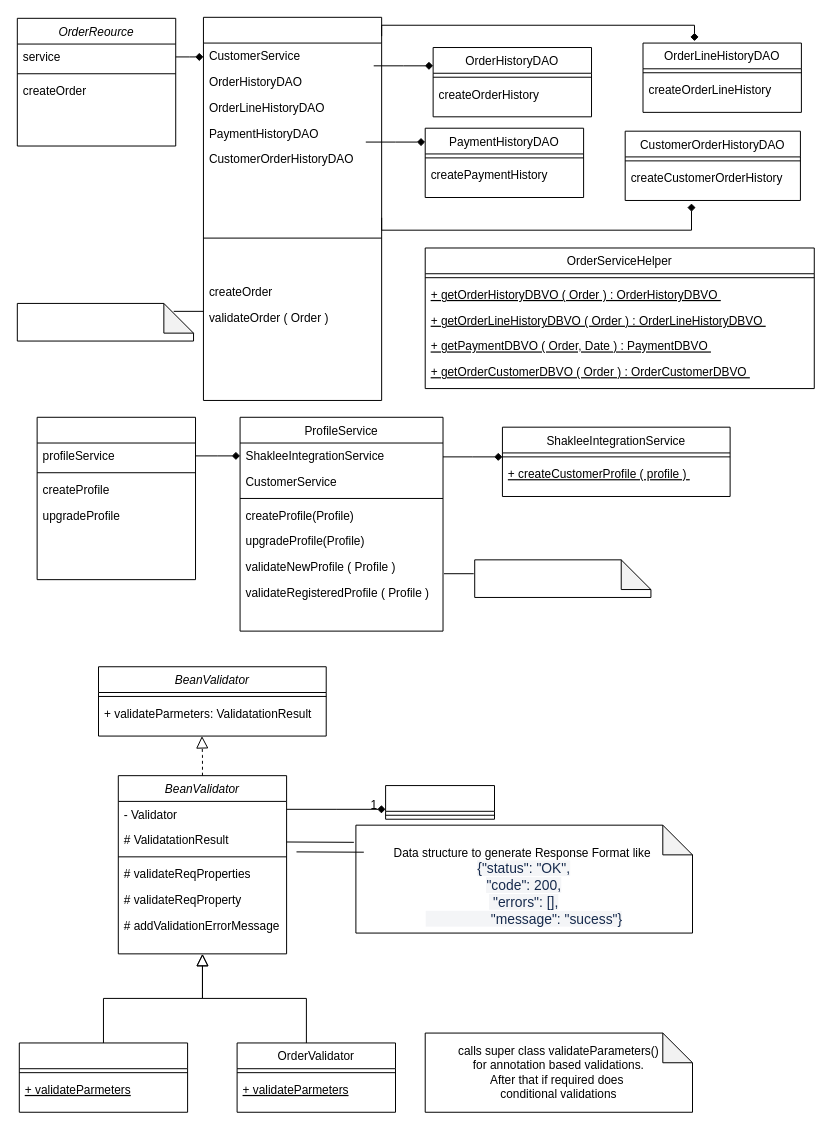
Some shapes in this 832 by 1130 pixel diagram are drawn without their labels. The box of each missing label's shape, as (x1, y1, x2, y2) in pixels:
Apache BVal: (385, 785, 495, 819)
OrderService: (202, 16, 382, 400)
ProfileReource: (36, 416, 196, 580)
ProfileValidator: (18, 1042, 188, 1112)
Uses OrderValidator: (16, 302, 194, 341)
Uses ProfileValidator: (474, 559, 651, 597)
